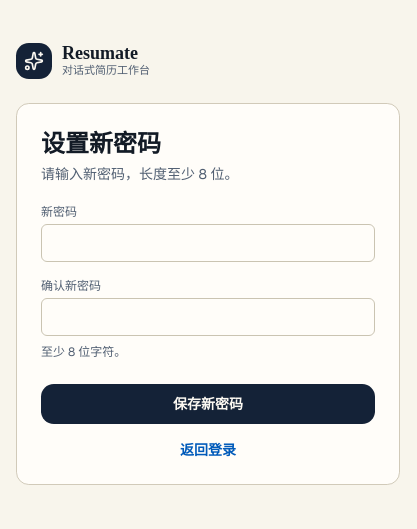
Test: ResetPasswordPage › 短密码在提交前拦截
The image size is (417, 529).
Type "short" into the password field labelled "新密码" at (208,243), box [41,224,375,262]
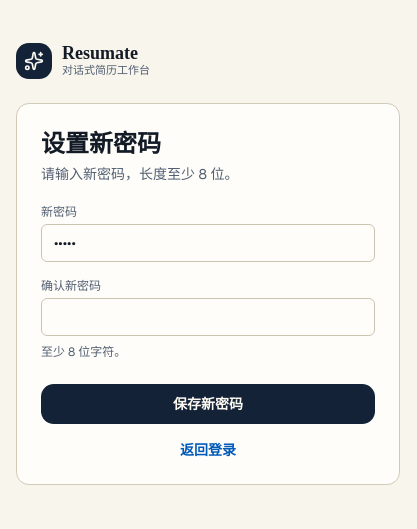
Type "short" into the password field labelled "确认新密码" at (208,317), box [41,298,375,336]
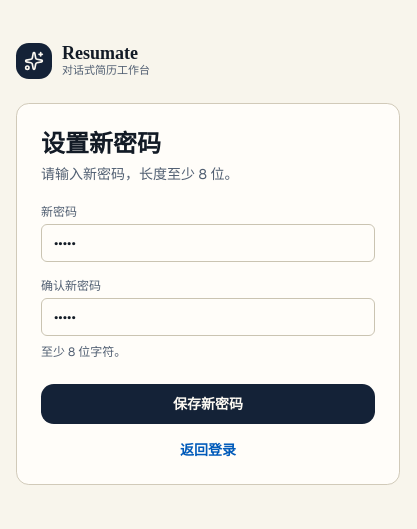
Click the button "保存新密码" at (208,404), box [41,384,375,424]
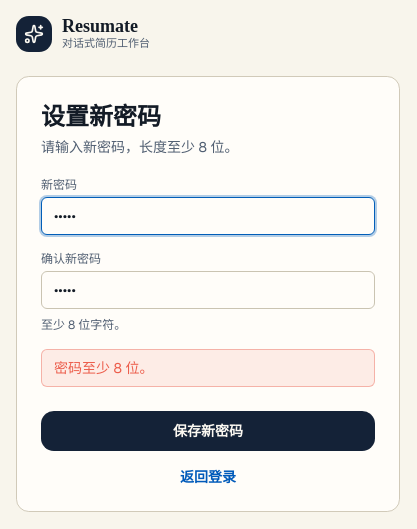
Expected: the message reads "密码至少 8 位。", [54,359,154,377]
